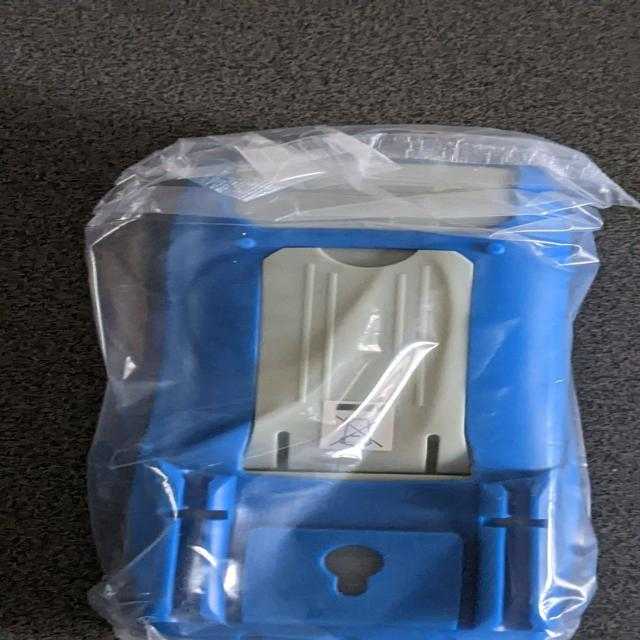Digital Multimeter: (97, 129, 608, 640)
